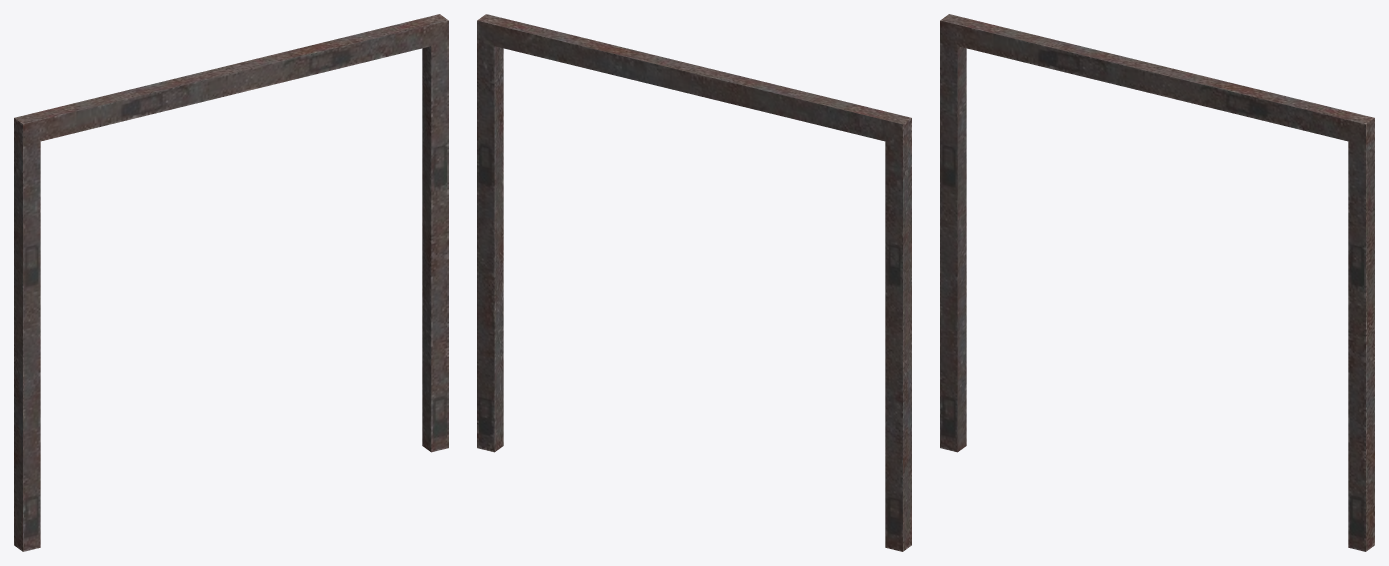
Rendered from armored_wall_frame_textured.glb.
3 renders of one model, left to right at view 1: azimuth 30°, elevation 25°; view 2: azimuth 150°, elevation 25°; view 3: azimuth 330°, elevation 25°, orthographic.
Parts seen in each view (by area): view 1: Cube; view 2: Cube; view 3: Cube.
Boxes of the visible parts, <box> form: Cube: <box>14,14,448,551</box>; Cube: <box>477,14,911,551</box>; Cube: <box>940,14,1374,551</box>.
Bounding box in the file's own units: 2.09 × 2 × 0.0761.
1 material, 1 textured.
